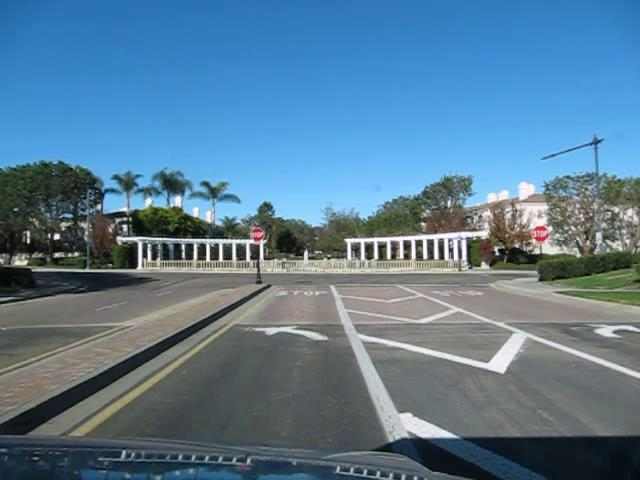stop: (531, 224, 548, 242), (249, 225, 264, 240)
